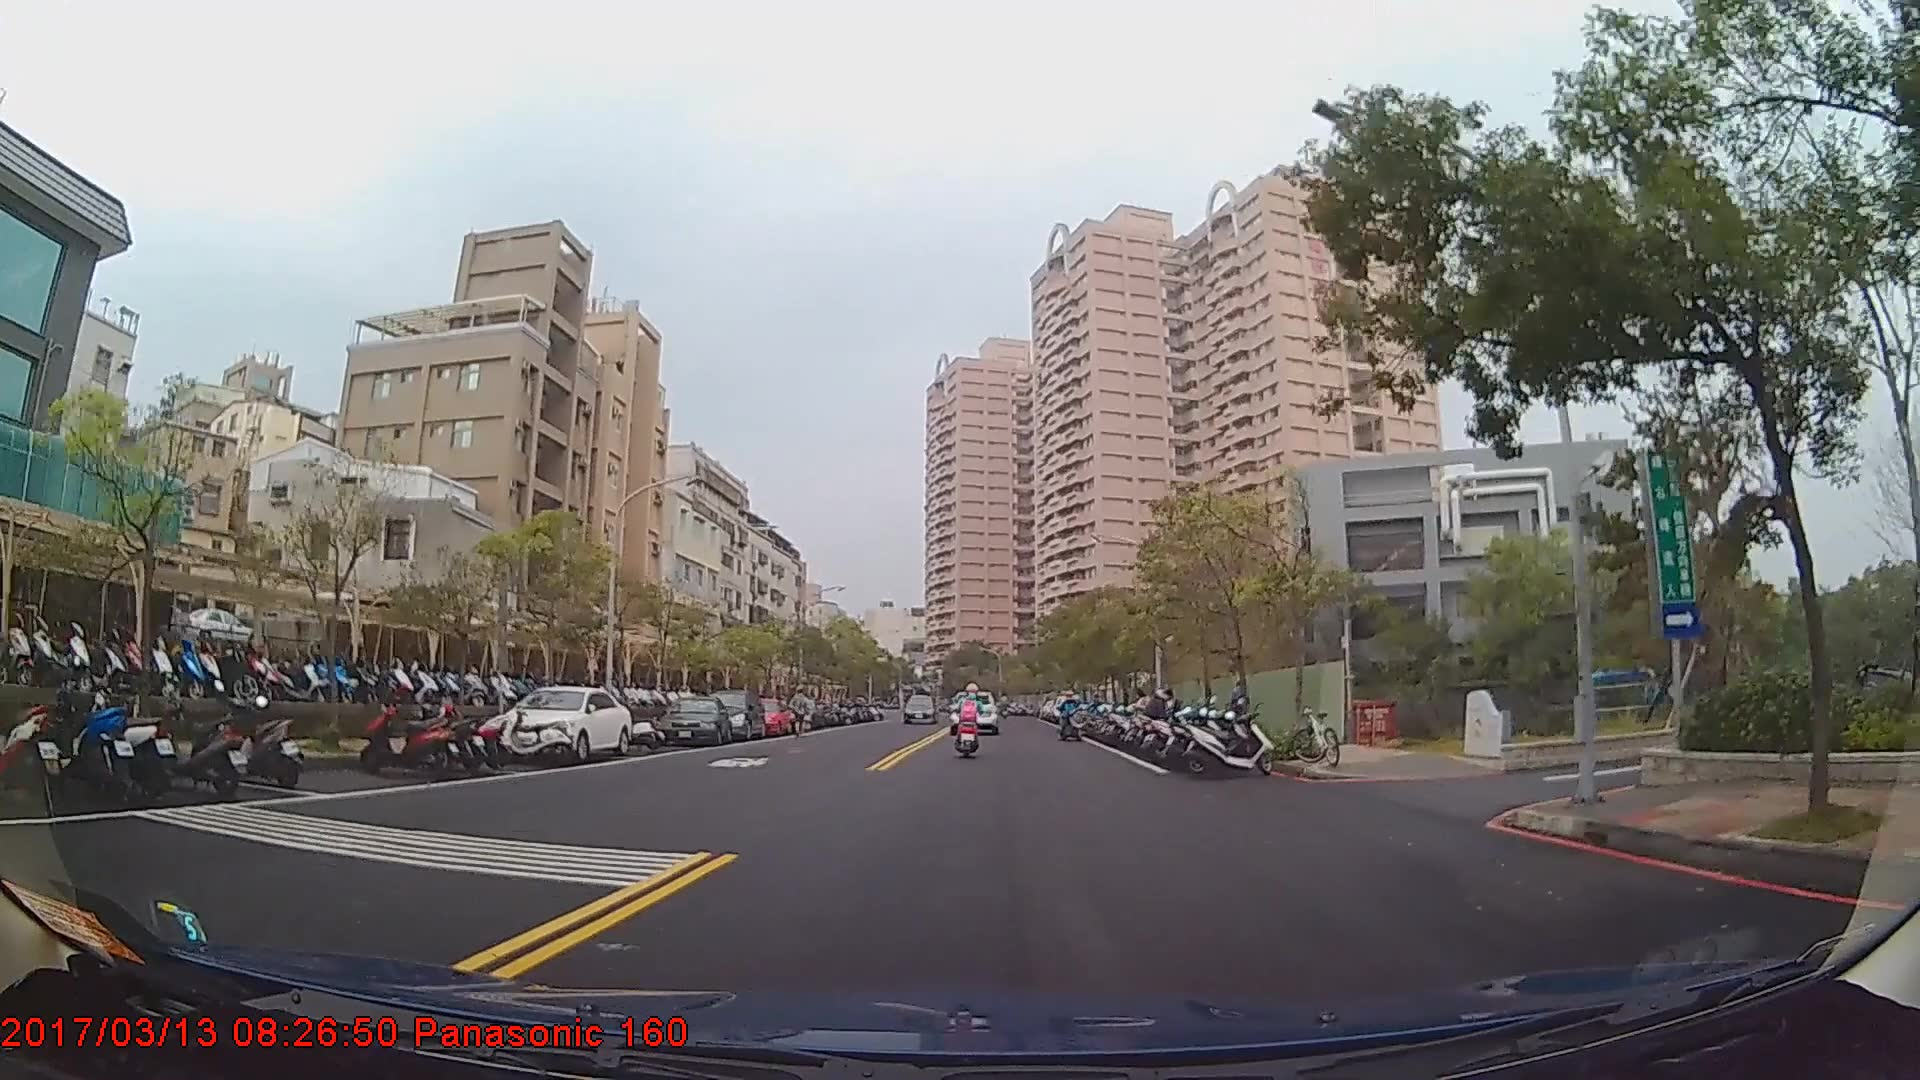pedestrian: (1139, 675, 1177, 749), (789, 689, 815, 741), (1230, 681, 1254, 734)
rider: (957, 682, 986, 753), (1058, 691, 1083, 740)
vehicle: (503, 685, 632, 761), (657, 694, 731, 745), (702, 688, 765, 740), (948, 688, 999, 733), (903, 693, 937, 722)
